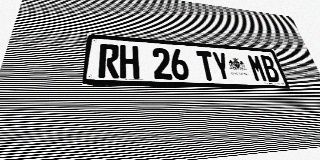2: (152, 47, 172, 80)
6: (169, 49, 190, 80)
B: (259, 55, 281, 82)
H: (120, 45, 139, 79)
M: (246, 54, 268, 82)
R: (98, 44, 119, 78)
T: (196, 51, 217, 81)
Y: (211, 52, 233, 81)
